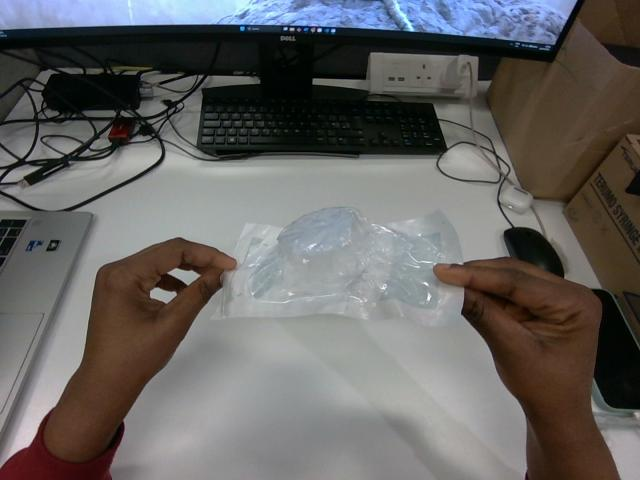gallipot: (219, 207, 462, 324)
